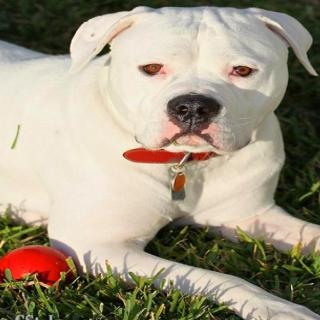dog: (73, 2, 320, 169)
nose: (160, 88, 221, 130)
